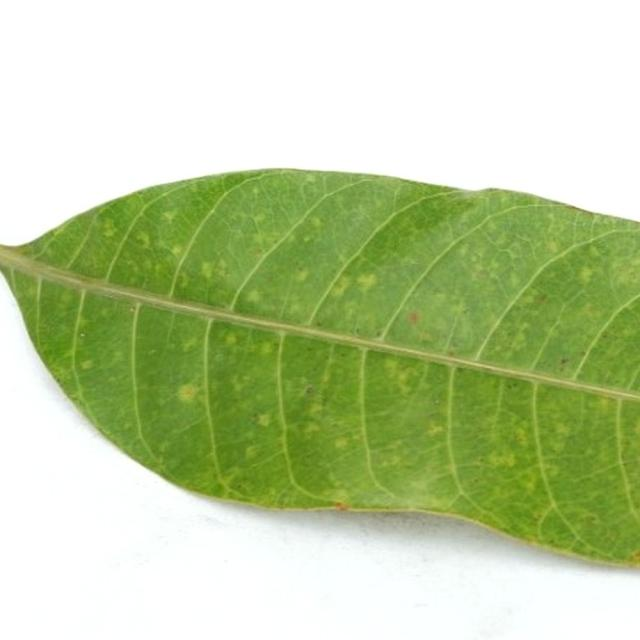Mango: (0, 170, 639, 566)
Powdery_Mildew: (543, 369, 640, 409), (379, 357, 419, 394), (287, 502, 375, 513), (33, 273, 45, 348), (170, 382, 202, 409), (269, 323, 295, 348), (328, 274, 353, 299), (487, 449, 518, 469), (69, 268, 101, 287), (4, 238, 32, 259), (251, 229, 277, 249), (355, 272, 378, 292), (217, 469, 238, 486), (100, 218, 117, 238), (230, 377, 250, 394), (524, 533, 548, 547), (503, 244, 522, 261), (481, 187, 513, 197), (135, 230, 152, 247), (520, 475, 537, 492), (450, 300, 467, 317), (561, 201, 587, 212), (426, 422, 444, 437), (330, 488, 350, 501), (577, 266, 593, 282), (554, 422, 570, 438), (293, 268, 310, 283), (308, 401, 325, 416), (200, 261, 214, 279), (182, 336, 197, 352), (259, 341, 274, 356), (245, 444, 260, 459), (245, 290, 261, 304), (535, 505, 551, 519), (256, 413, 271, 427), (587, 245, 602, 259), (544, 464, 559, 477), (160, 210, 177, 221), (334, 437, 349, 449), (419, 331, 434, 343), (224, 333, 237, 346), (171, 244, 183, 257), (178, 273, 189, 287), (534, 293, 548, 304), (310, 216, 322, 228), (303, 385, 315, 397), (254, 212, 266, 223), (80, 360, 93, 370), (584, 514, 598, 523), (303, 174, 317, 183), (408, 312, 419, 323), (158, 441, 169, 452), (407, 259, 420, 267), (506, 381, 517, 390), (69, 393, 79, 401), (560, 357, 569, 365), (634, 549, 640, 561), (303, 235, 311, 243), (54, 376, 61, 383), (447, 351, 455, 357), (375, 330, 381, 337), (354, 328, 360, 335), (316, 321, 323, 327), (603, 333, 610, 339), (580, 350, 586, 357), (129, 306, 135, 312), (80, 333, 85, 337)
